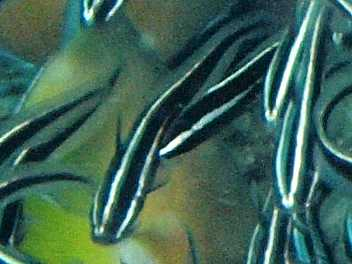gonzui: (83, 101, 161, 240)
